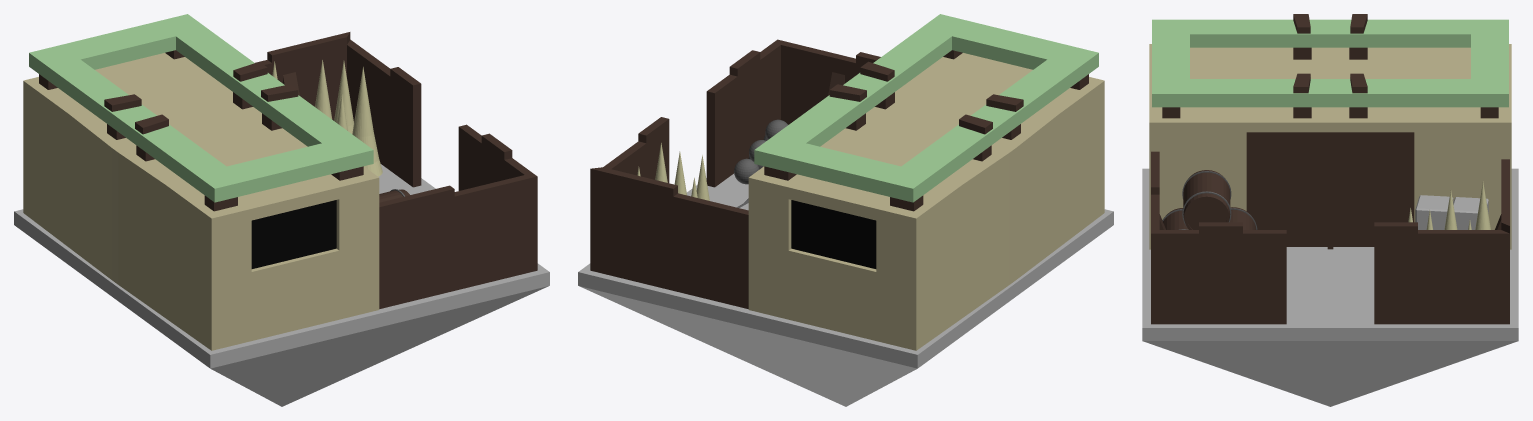
The model's file is Buuilding Storage Yard T2.fbx.
3 renders of one model, left to right at view 1: azimuth 30°, elevation 25°; view 2: azimuth 150°, elevation 25°; view 3: azimuth 270°, elevation 25°, orthographic. The views are drawn at different scales.
Visible parts, largest first — view 1: Storage Yard T2; view 2: Storage Yard T2; view 3: Storage Yard T2.
Part boxes in pixels (x1,y1,x2,y2): Storage Yard T2: (14, 14, 549, 406); Storage Yard T2: (578, 14, 1113, 406); Storage Yard T2: (1142, 14, 1518, 406).
Size of the model in its own units: 1599 by 1493 by 1599.
